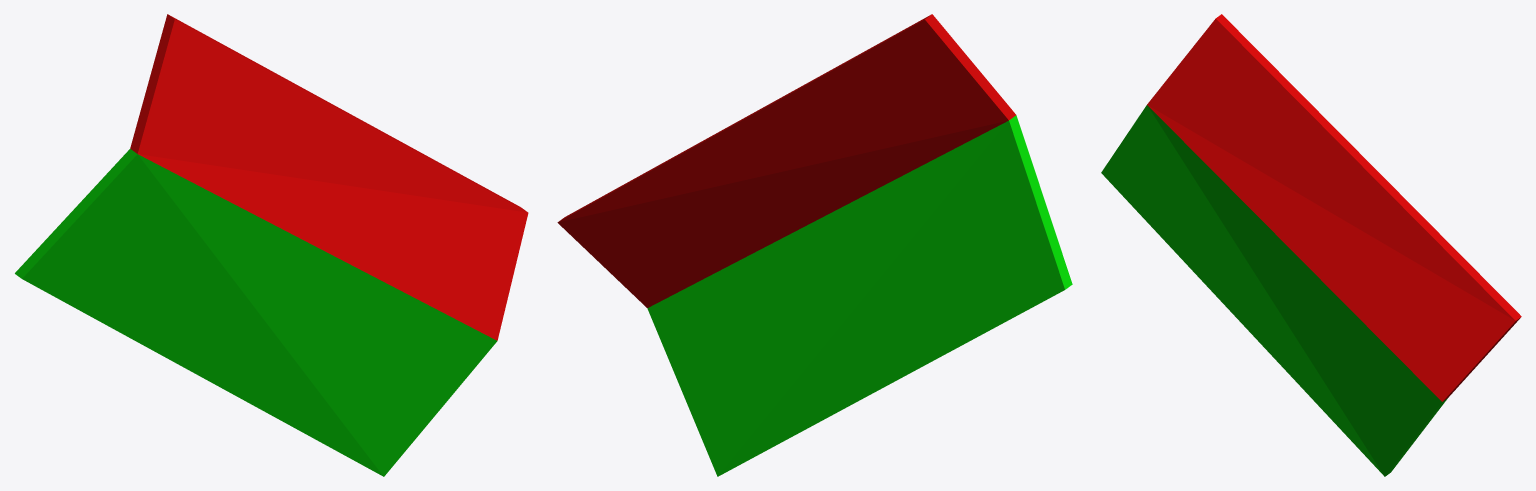
Rendered from roof_model.glb.
The picture shows the model from 3 angles, left to right: view 1: azimuth 30°, elevation 25°; view 2: azimuth 150°, elevation 25°; view 3: azimuth 330°, elevation 25°; orthographic projection. The views are drawn at different scales.
Visible parts, largest first — view 1: world; view 2: world; view 3: world.
Boxes of the visible parts, x1,y1,x2,y2 form: world: [15, 14, 528, 476]; world: [557, 14, 1072, 476]; world: [1101, 14, 1521, 476].
Size of the model in its own units: 9.8 by 9.39 by 1.25.
